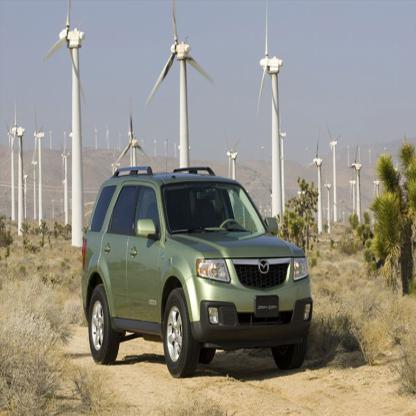Vehicle: (80, 165, 315, 377)
